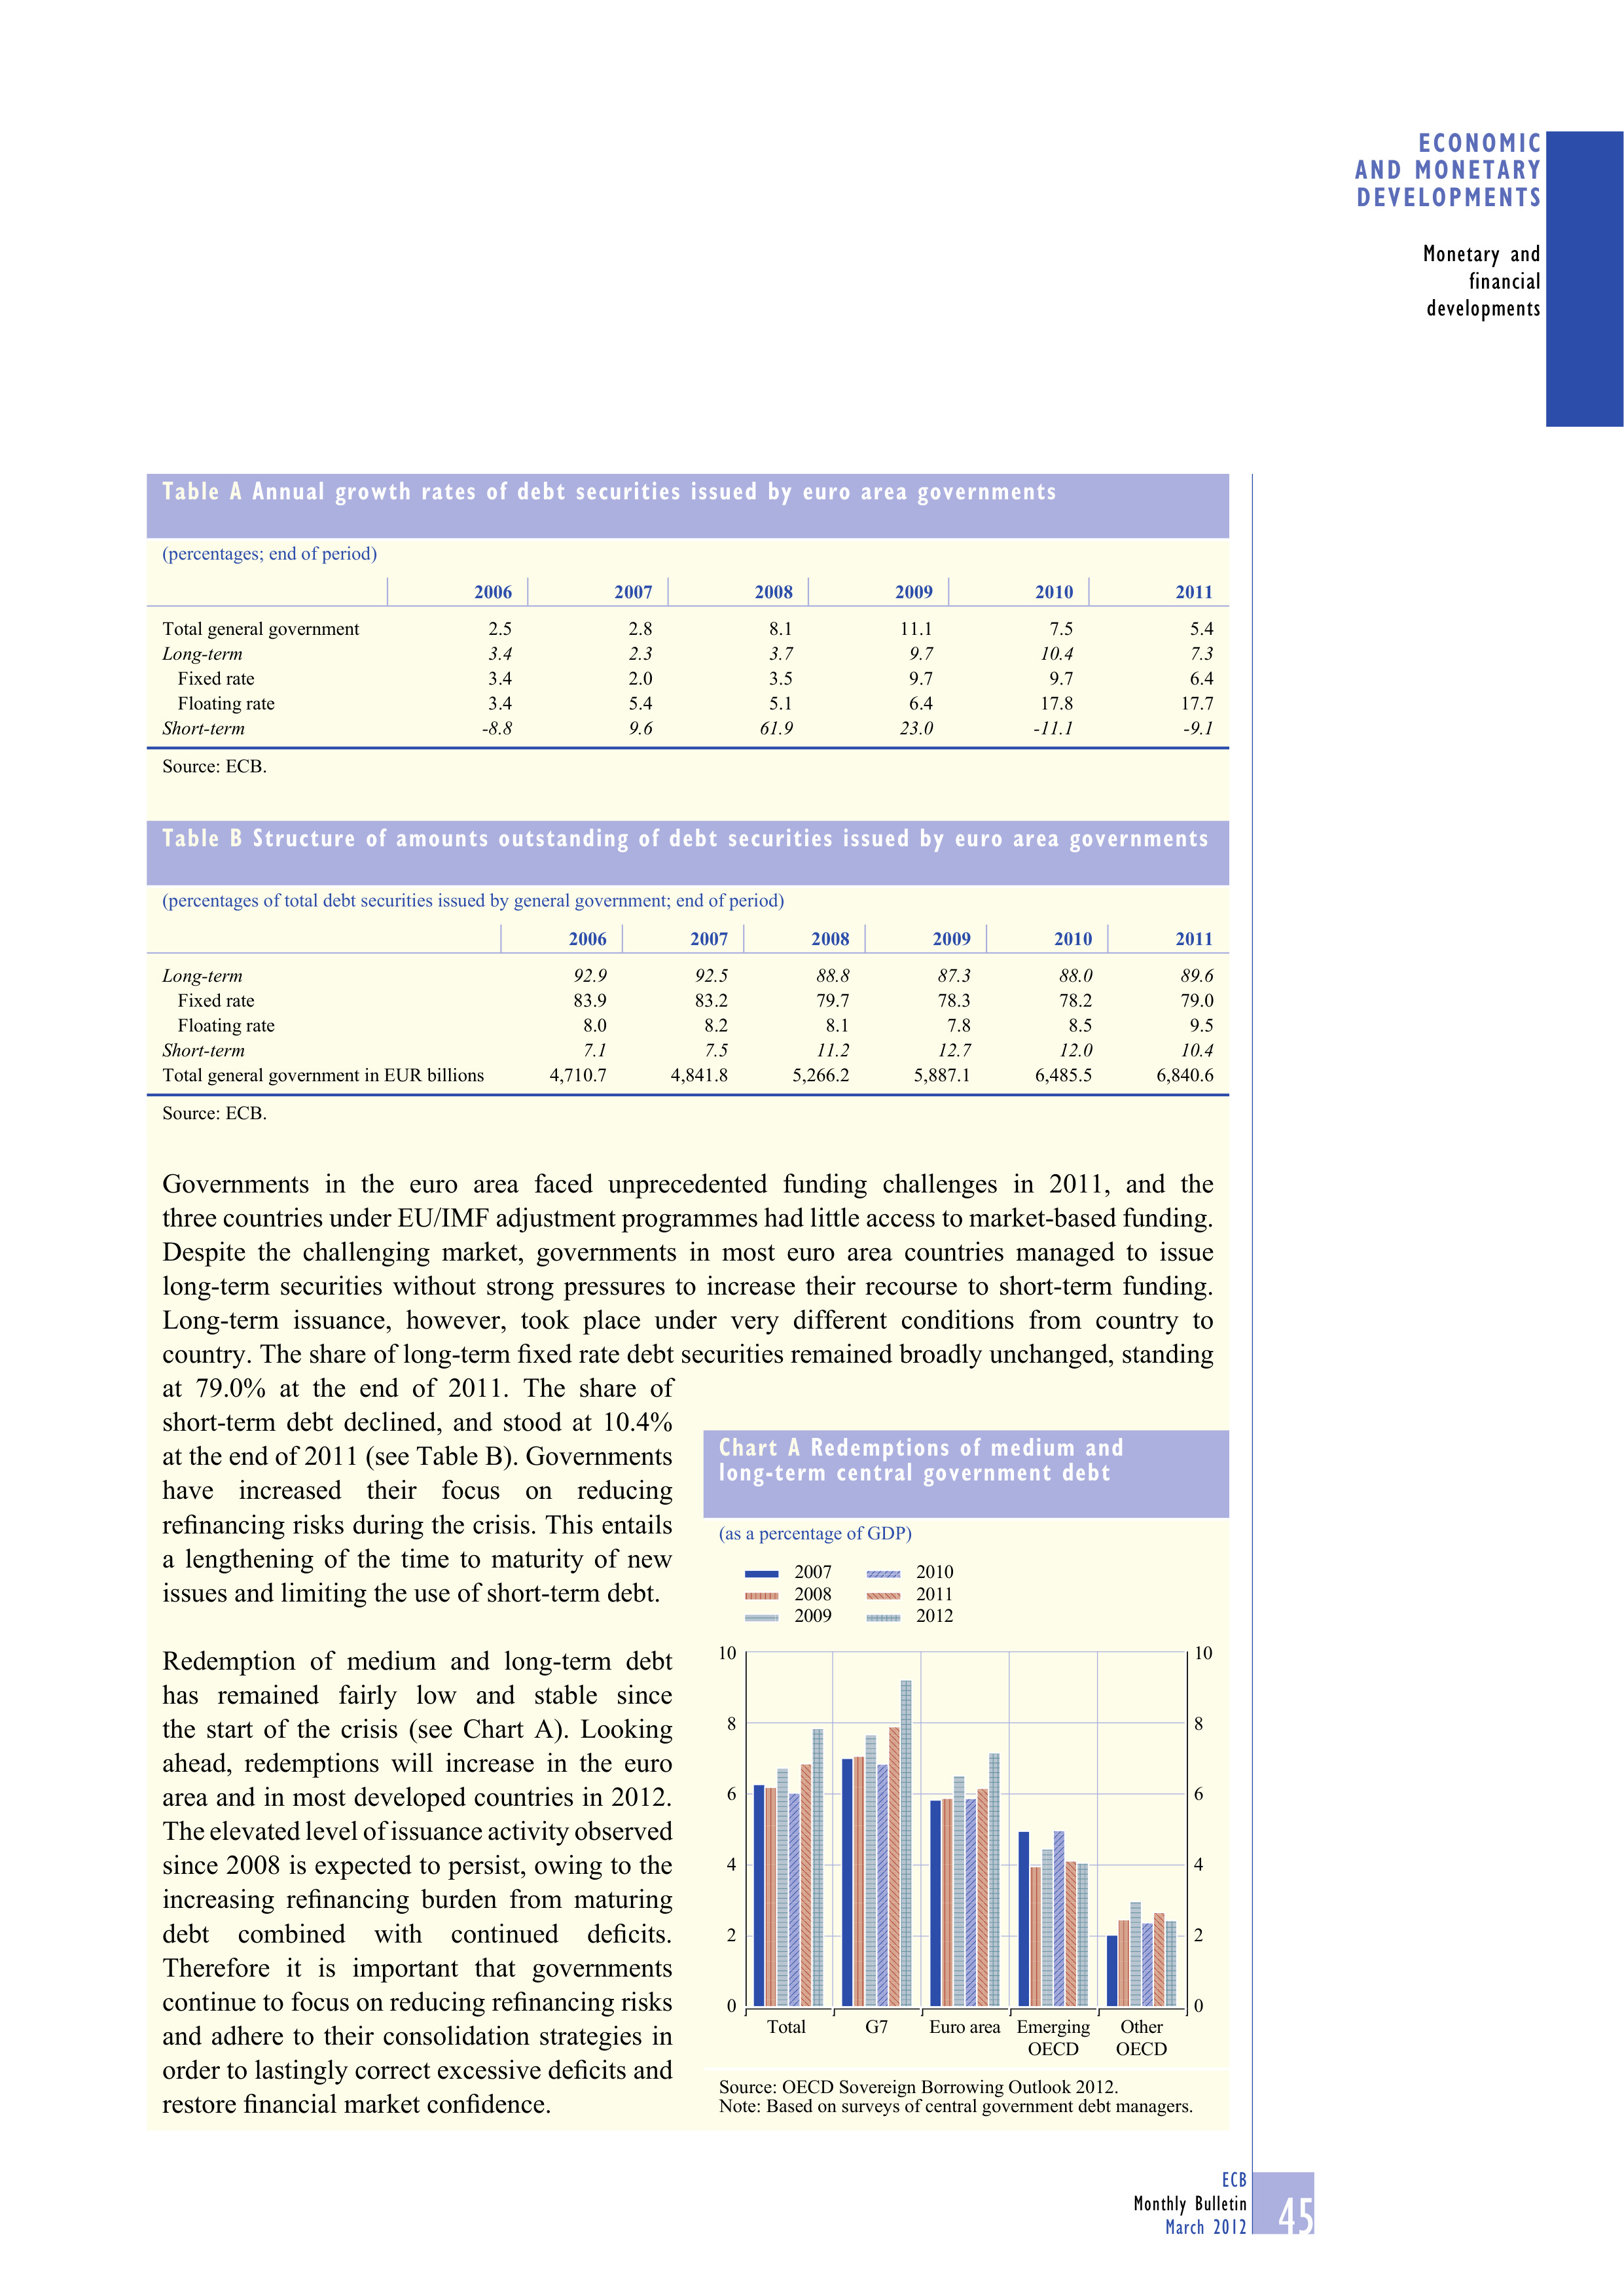table: (162, 583, 1213, 738), (162, 931, 1213, 1086)
